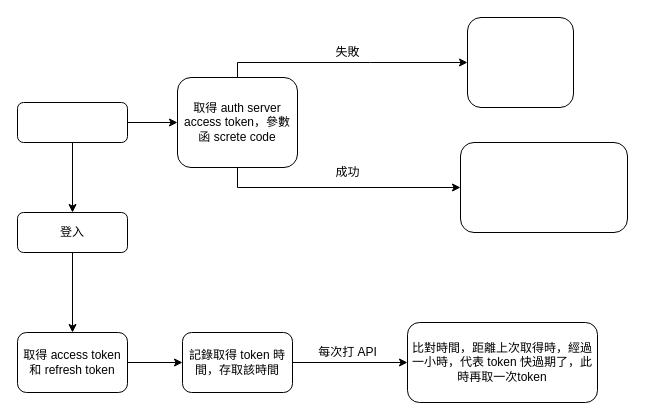
Image size: 645x420. Some labels were removed from this diagram. Here are the shapes that lost their labels. From the top down, the centre of each, then its label:
At pixel 520 62: "404 page".
At pixel 72 122: "進入網頁".
At pixel 544 187: "使用後端回傳過期時間，設定倒數器，再次取得 token".
